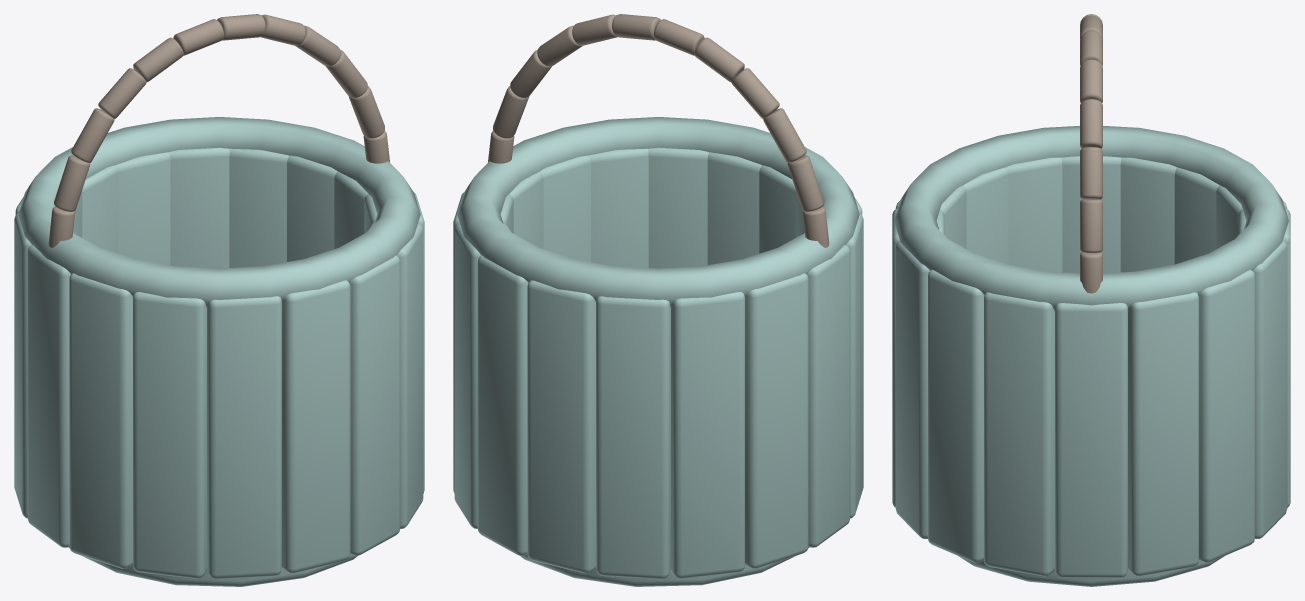
Rendered from water-bucket-empty.glb.
The picture shows the model from 3 angles, left to right: view 1: azimuth 30°, elevation 25°; view 2: azimuth 150°, elevation 25°; view 3: azimuth 270°, elevation 25°; orthographic projection.
Parts seen in each view (by area): view 1: Bucket lip.002, Bucket wall.043, Bucket wall.042, Bucket wall.044, Bucket wall.041, Bucket wall.045, Bucket wall.040, Bucket wall.035, Bucket wall.046, Bucket wall.034, Bucket wall.036, Bucket wall.033 (+17 smaller); view 2: Bucket lip.002, Bucket wall.037, Bucket wall.038, Bucket wall.036, Bucket wall.039, Bucket wall.035, Bucket wall.040, Bucket wall.045, Bucket wall.034, Bucket wall.046, Bucket wall.044, Bucket wall.047 (+17 smaller); view 3: Bucket lip.002, Bucket wall.032, Bucket wall.033, Bucket wall.047, Bucket wall.034, Bucket wall.046, Bucket wall.035, Bucket wall.045, Bucket wall.039, Bucket wall.041, Bucket wall.040, Bucket wall.038 (+12 smaller).
Part boxes in pixels (bbox=[...]): Bucket lip.002: bbox=[18, 117, 420, 308]; Bucket wall.043: bbox=[207, 296, 281, 579]; Bucket wall.042: bbox=[133, 292, 207, 578]; Bucket wall.044: bbox=[282, 280, 350, 573]; Bucket wall.041: bbox=[69, 273, 132, 568]; Bucket wall.045: bbox=[349, 255, 400, 555]; Bucket wall.040: bbox=[27, 245, 70, 547]; Bucket wall.035: bbox=[169, 147, 229, 268]; Bucket wall.046: bbox=[367, 220, 423, 528]; Bucket wall.034: bbox=[229, 148, 288, 267]; Bucket wall.036: bbox=[116, 152, 170, 265]; Bucket wall.033: bbox=[287, 155, 337, 261]; Bucket lip.002: bbox=[457, 117, 859, 308]; Bucket wall.037: bbox=[596, 296, 670, 579]; Bucket wall.038: bbox=[670, 292, 744, 578]; Bucket wall.036: bbox=[527, 280, 595, 573]; Bucket wall.039: bbox=[745, 273, 808, 568]; Bucket wall.035: bbox=[477, 255, 528, 555]; Bucket wall.040: bbox=[807, 245, 850, 547]; Bucket wall.045: bbox=[648, 147, 708, 268]; Bucket wall.034: bbox=[454, 220, 510, 528]; Bucket wall.046: bbox=[589, 148, 648, 267]; Bucket wall.044: bbox=[707, 152, 761, 265]; Bucket wall.047: bbox=[540, 155, 590, 261]; Bucket lip.002: bbox=[894, 126, 1288, 311]; Bucket wall.032: bbox=[1055, 303, 1127, 577]; Bucket wall.033: bbox=[1128, 292, 1198, 576]; Bucket wall.047: bbox=[984, 292, 1054, 576]; Bucket wall.034: bbox=[1198, 269, 1254, 562]; Bucket wall.046: bbox=[928, 269, 984, 562]; Bucket wall.035: bbox=[1253, 241, 1287, 538]; Bucket wall.045: bbox=[895, 241, 929, 538]; Bucket wall.039: bbox=[1120, 157, 1176, 272]; Bucket wall.041: bbox=[1006, 157, 1062, 272]; Bucket wall.040: bbox=[1061, 156, 1121, 273]; Bucket wall.038: bbox=[1174, 167, 1219, 264].
Size of the model in its own units: 0.656 by 0.888 by 0.656.
